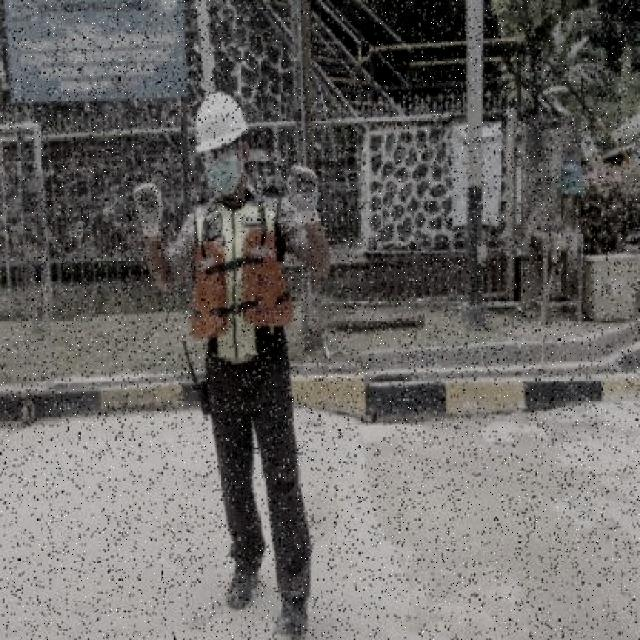Boots: (274, 569, 314, 640), (221, 544, 261, 610)
Gloves: (282, 156, 324, 222), (127, 178, 167, 237)
Helmet: (190, 92, 250, 154)
Mask: (186, 224, 294, 346)
